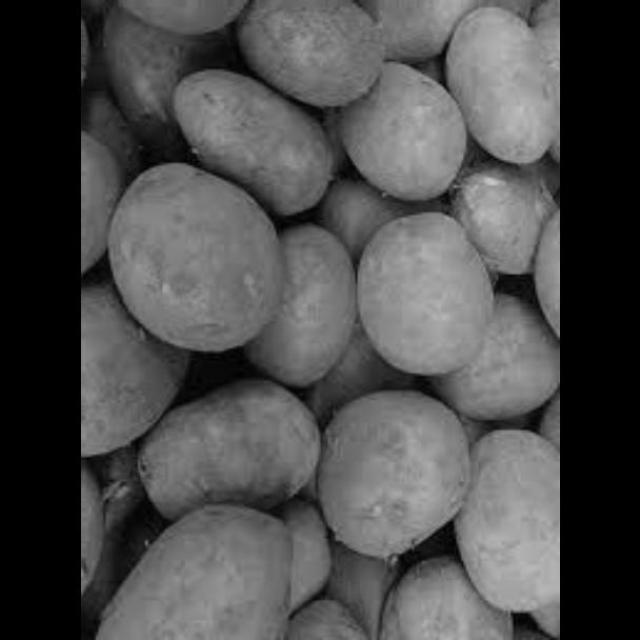khoai tay: (123, 148, 292, 366), (318, 387, 490, 560), (350, 202, 513, 384), (136, 375, 327, 524), (190, 61, 348, 225), (81, 526, 302, 640), (243, 195, 361, 398), (81, 287, 197, 473), (446, 1, 560, 186), (345, 62, 480, 204), (235, 1, 386, 123), (101, 0, 234, 136), (438, 285, 560, 427), (442, 148, 560, 294), (463, 438, 560, 614), (374, 553, 517, 640), (82, 135, 141, 280), (286, 495, 350, 604), (286, 589, 375, 640)
